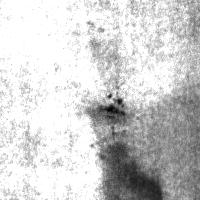patches: (127, 86, 200, 200), (97, 139, 164, 199), (100, 91, 128, 128)
